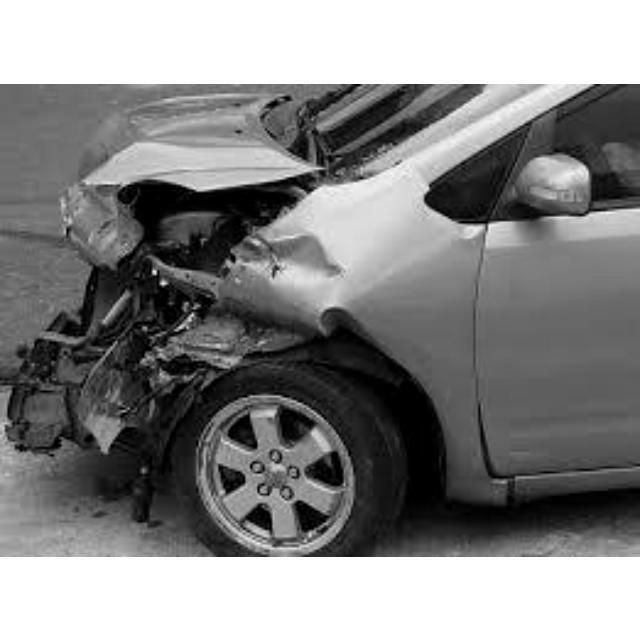bonnet-dent: (82, 83, 295, 225)
fender-dent: (204, 230, 397, 374)
